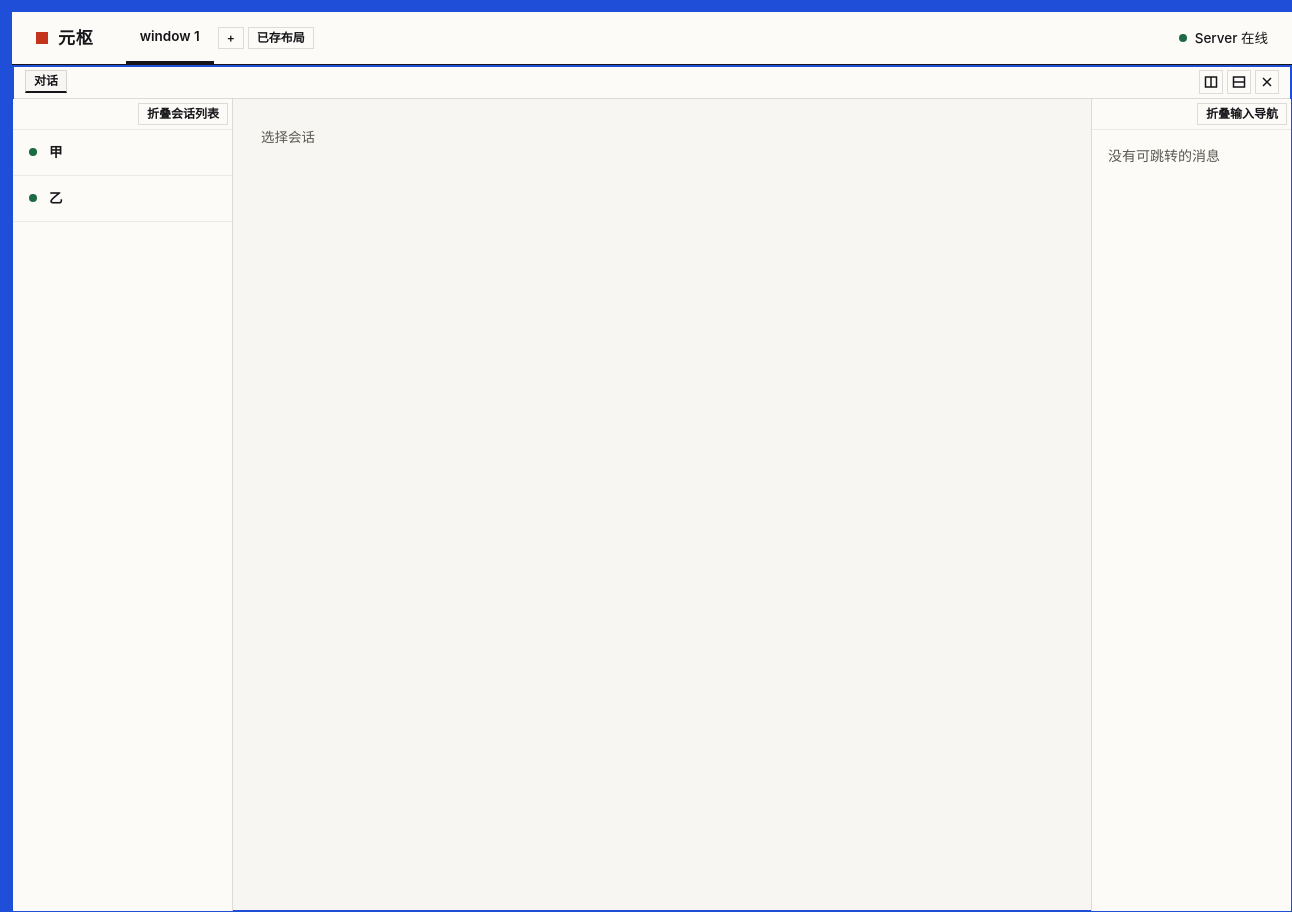
Test: pane 双击标题改名，留空恢复默认
The width and height of the screenshot is (1292, 912).
Double-click the text "对话": [46, 82] box [25,70,67,93]
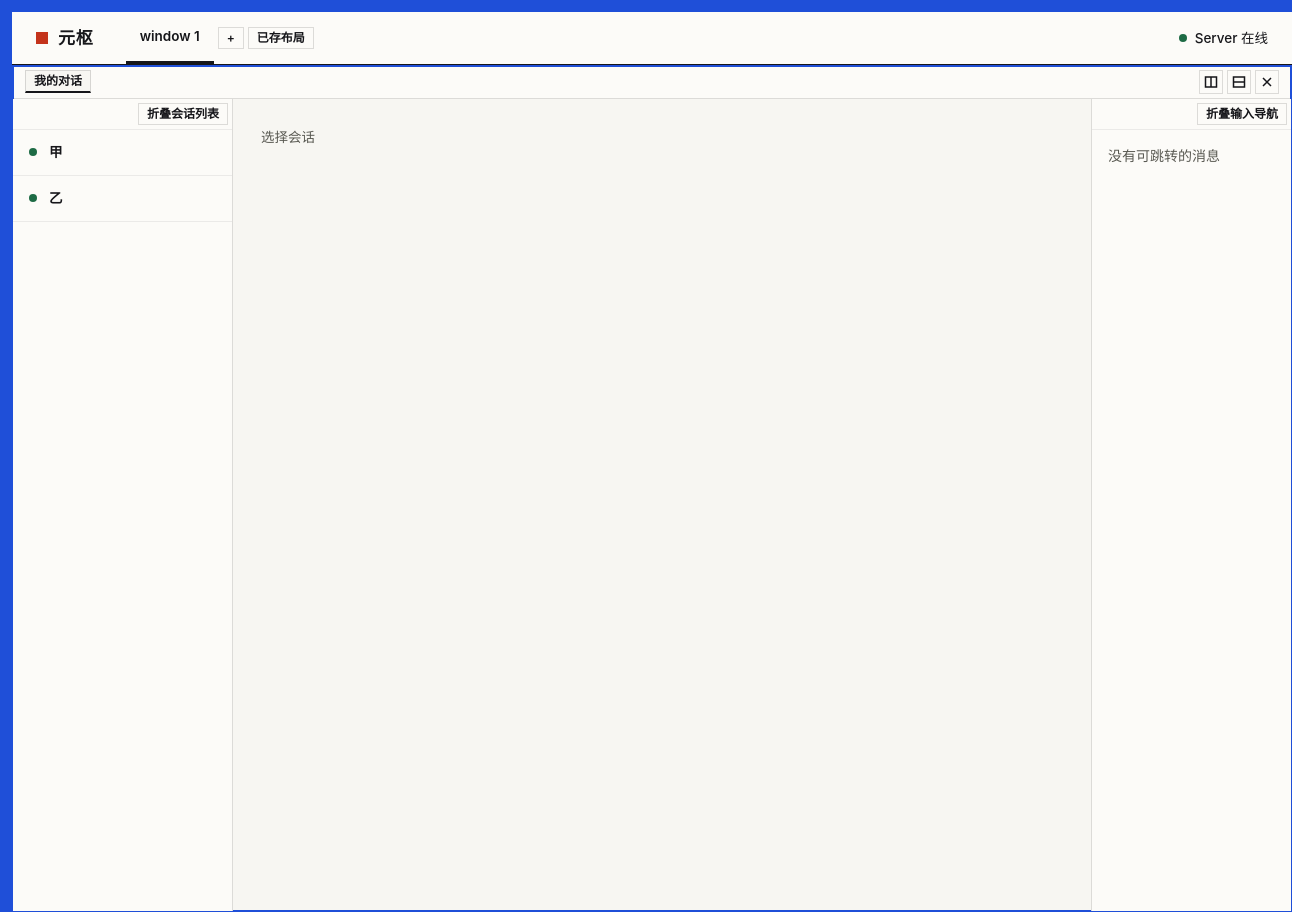
Check: the element "我的对话" is shown
Double-click the text "我的对话": [58, 82] box [25,70,91,93]
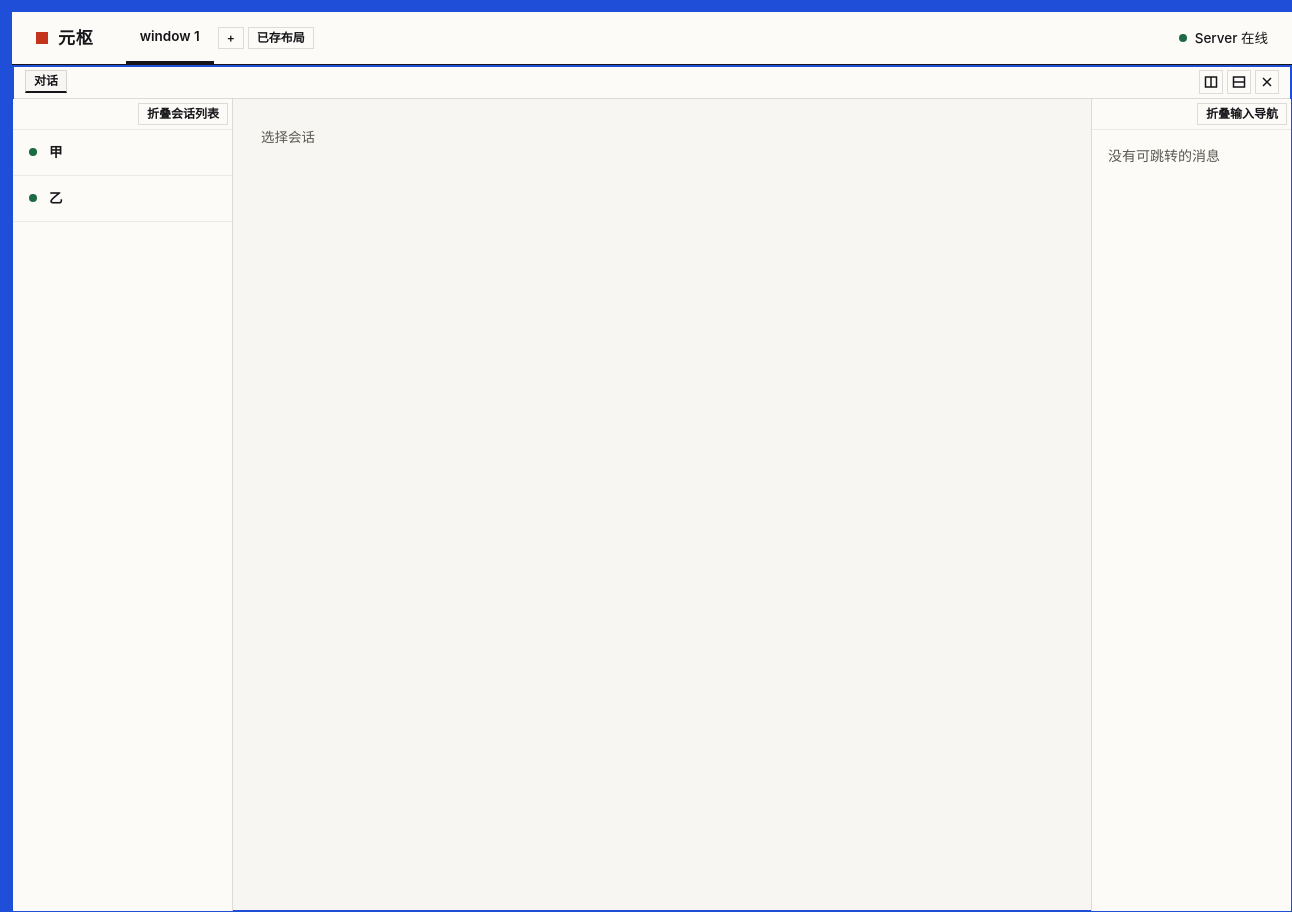
Check: the text "我的对话" is gone
